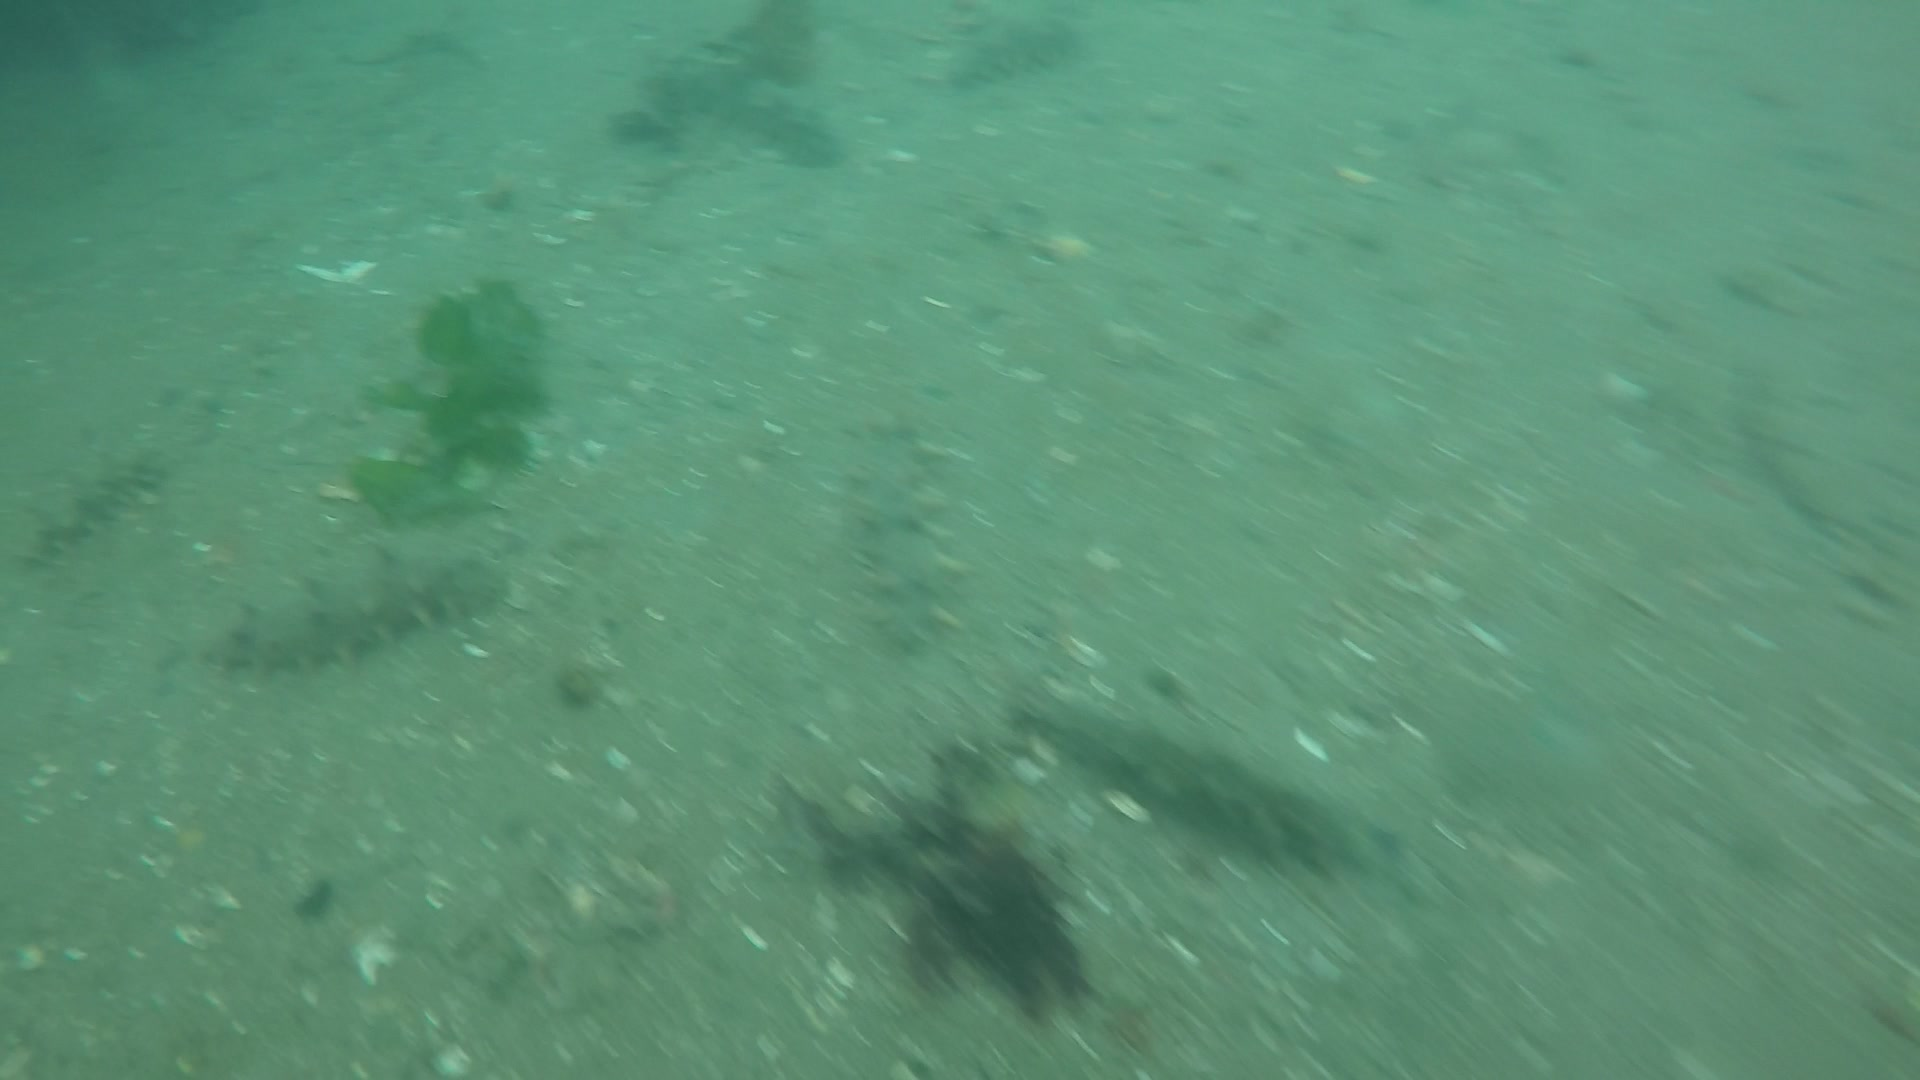holothurian: (994, 684, 1382, 884), (195, 538, 501, 683), (831, 422, 967, 645), (645, 62, 843, 167), (13, 443, 170, 572), (949, 15, 1092, 91)
